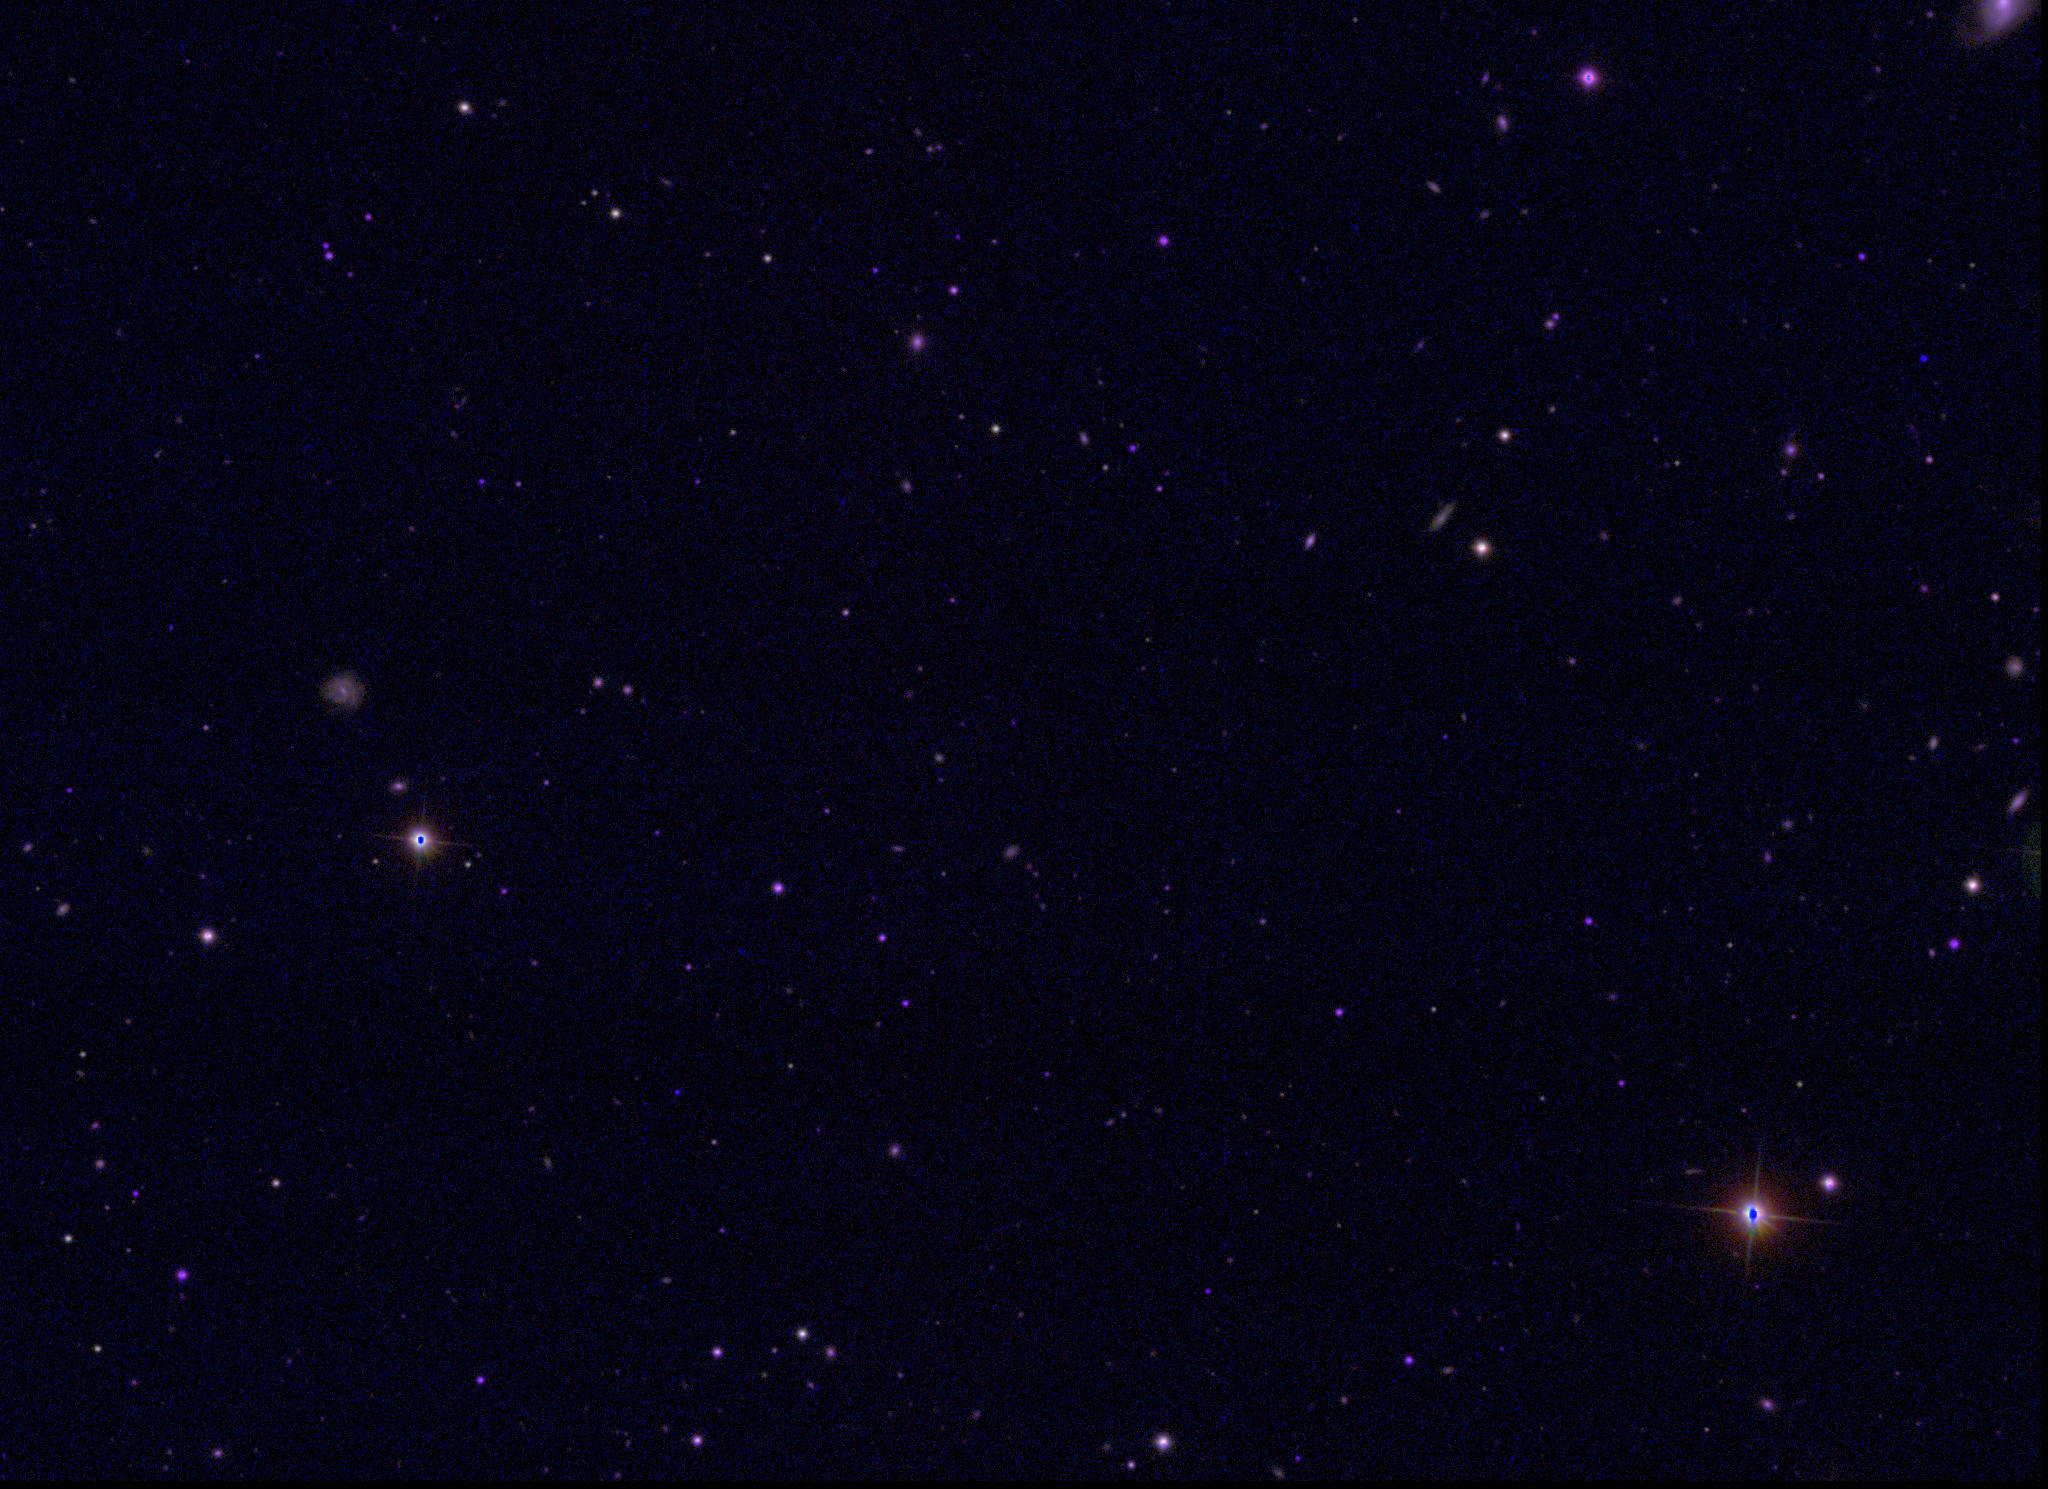L: (1918, 352, 1930, 366)
